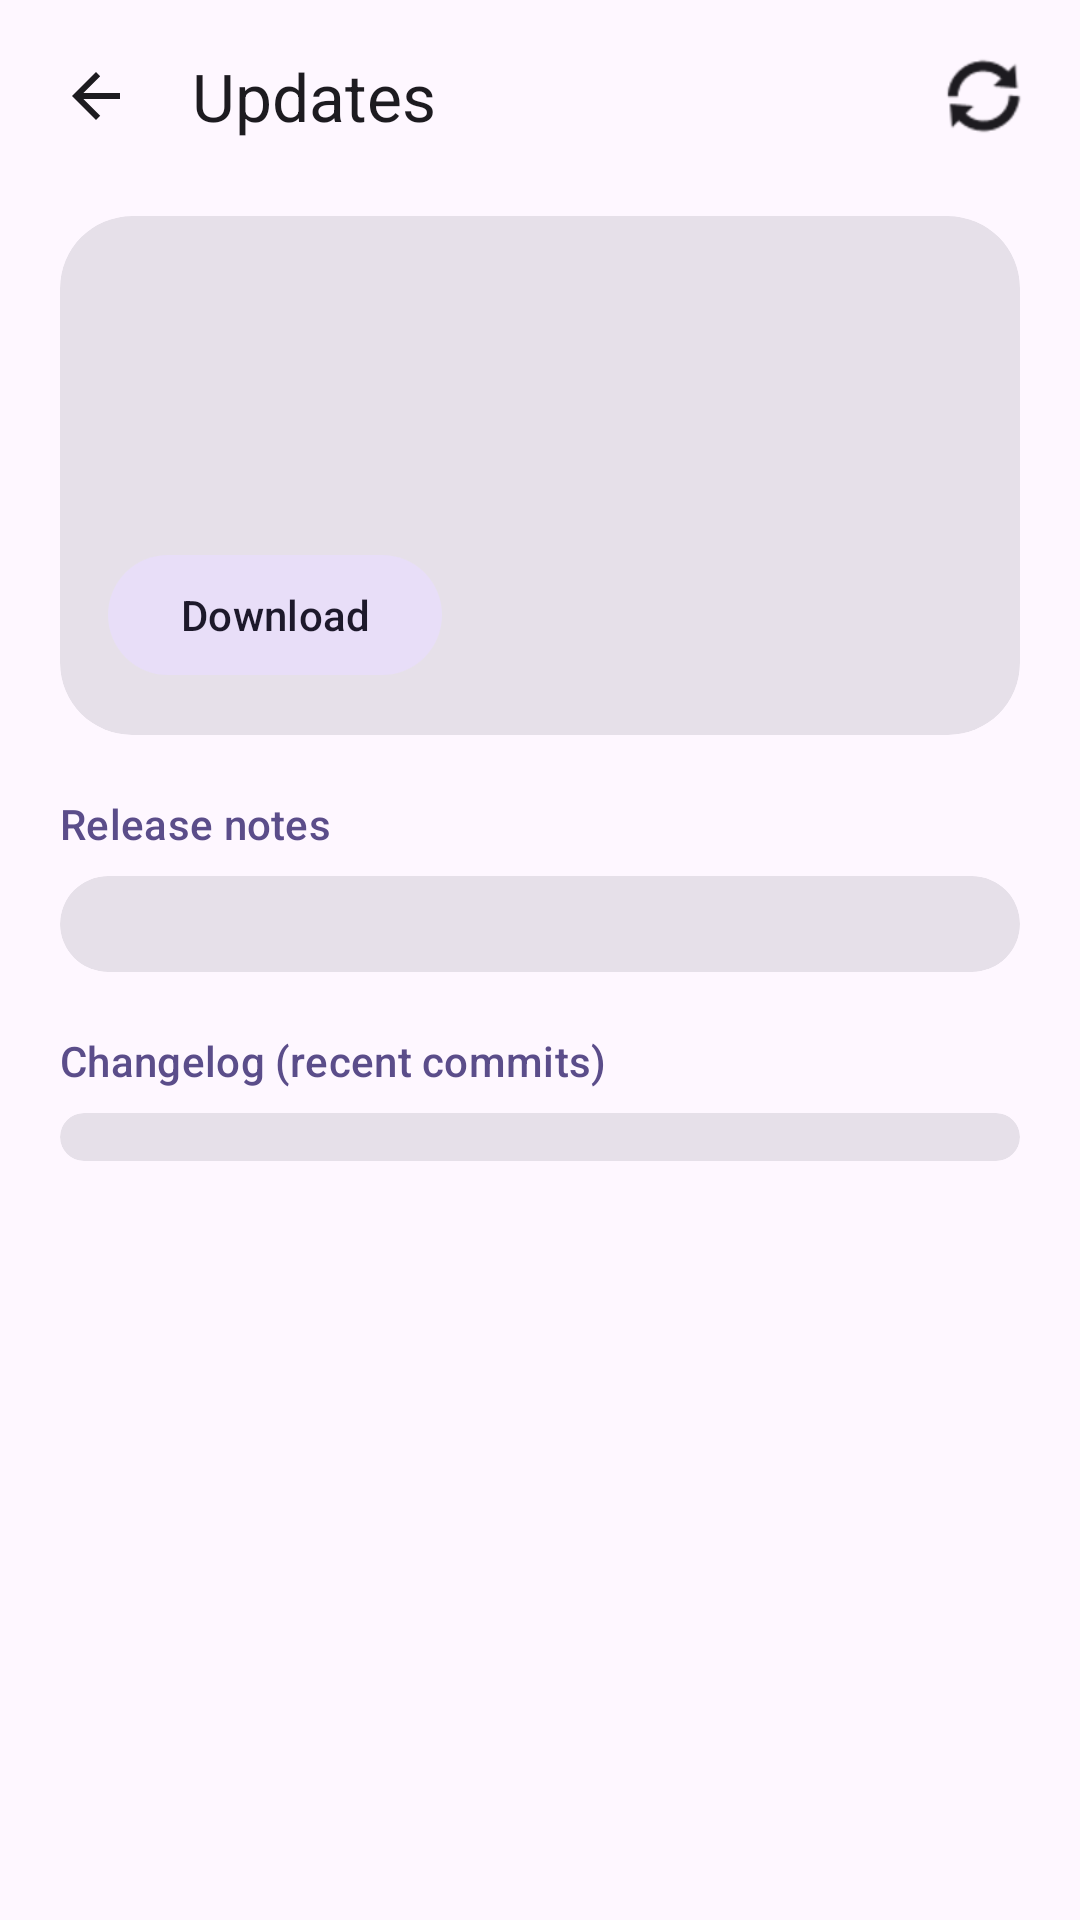

Locate icon controls on the screen. Image size 1080*1920, boxes as (x1, y1, x2, y2).
Check for updates: (947, 60, 1021, 132)
